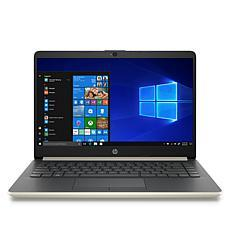Laptop: (2, 49, 230, 200)
